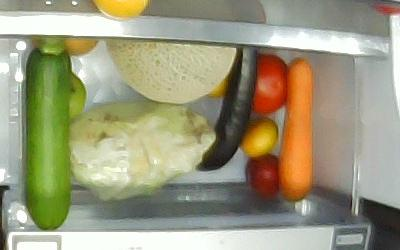cabbage: (65, 101, 216, 203)
carrot: (278, 58, 314, 203)
eggplant: (196, 41, 257, 172)
melon: (104, 37, 237, 104)
prune: (245, 154, 279, 196)
tangerine: (240, 117, 278, 158)
tomato: (249, 55, 289, 114), (69, 70, 86, 122)
zucchini: (27, 36, 69, 230)
